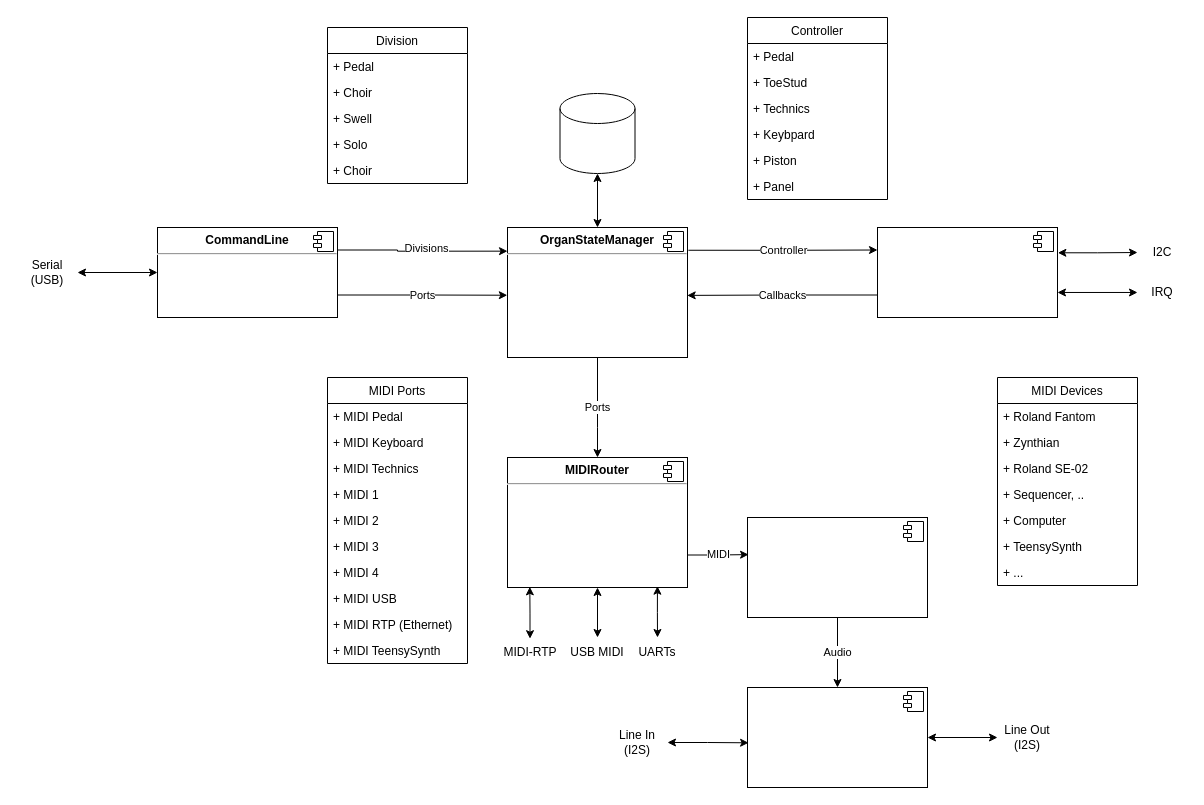
Some shapes in this 1204 by 805 pixel diagram are drawn without their labels. Each missing label, with the centre of its shape:
ControllerDriver: pixel 967 272
EffectsEngine: pixel 837 737
Settings: pixel 597 133
TeensySynth: pixel 837 567
